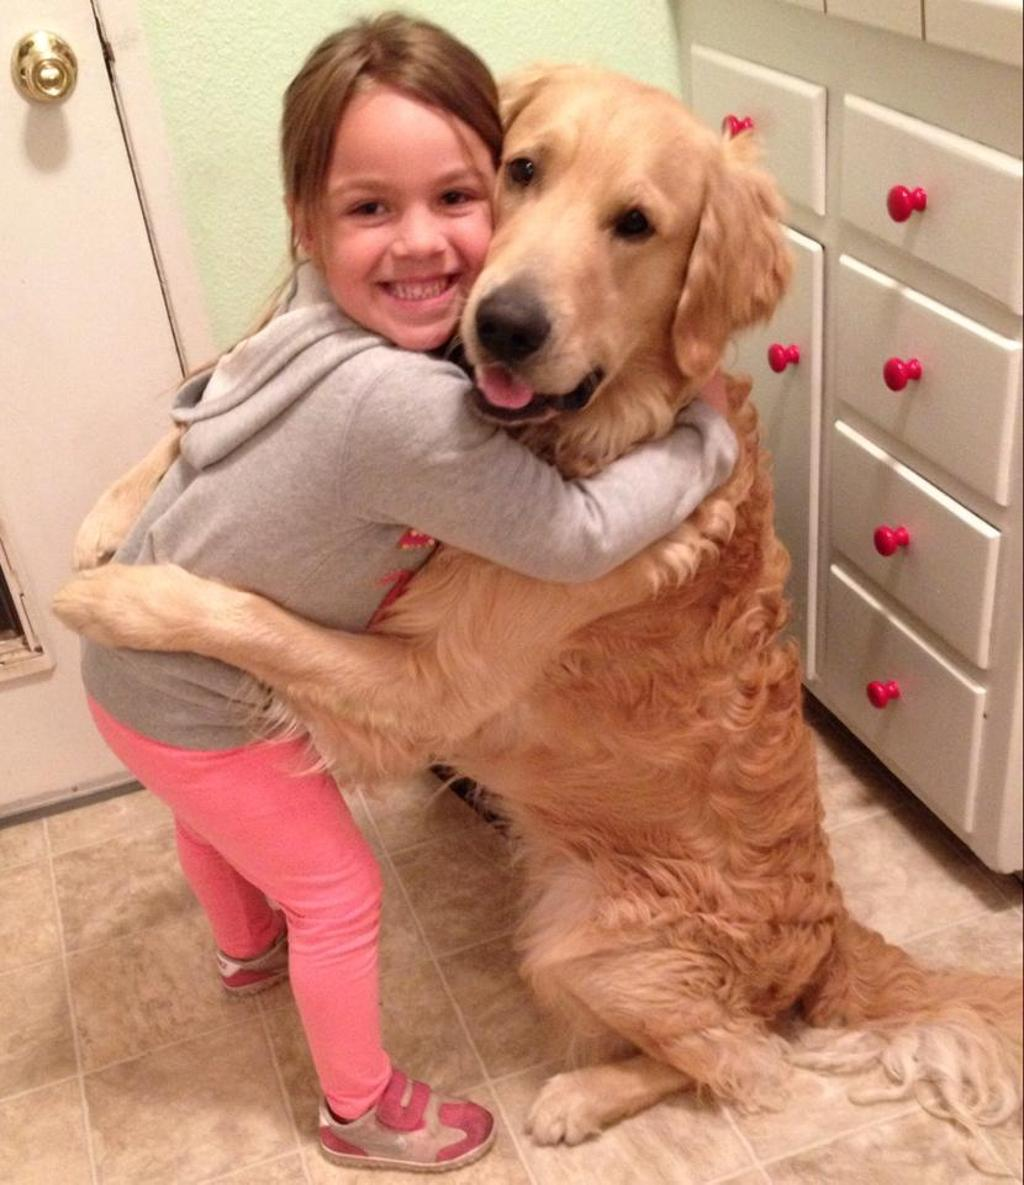face: (320, 89, 493, 348)
